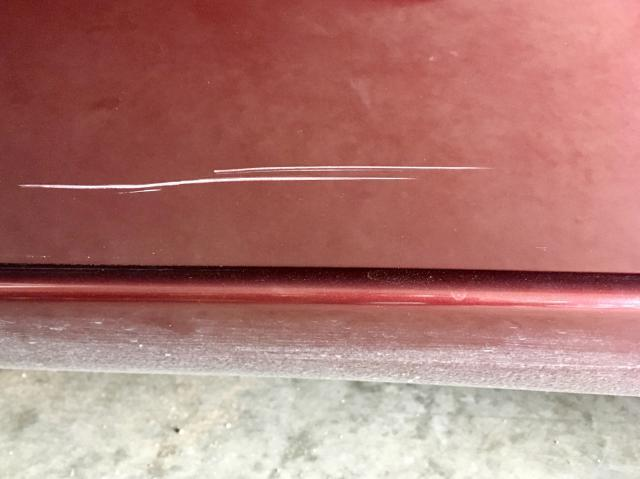Door: (10, 137, 500, 232)
